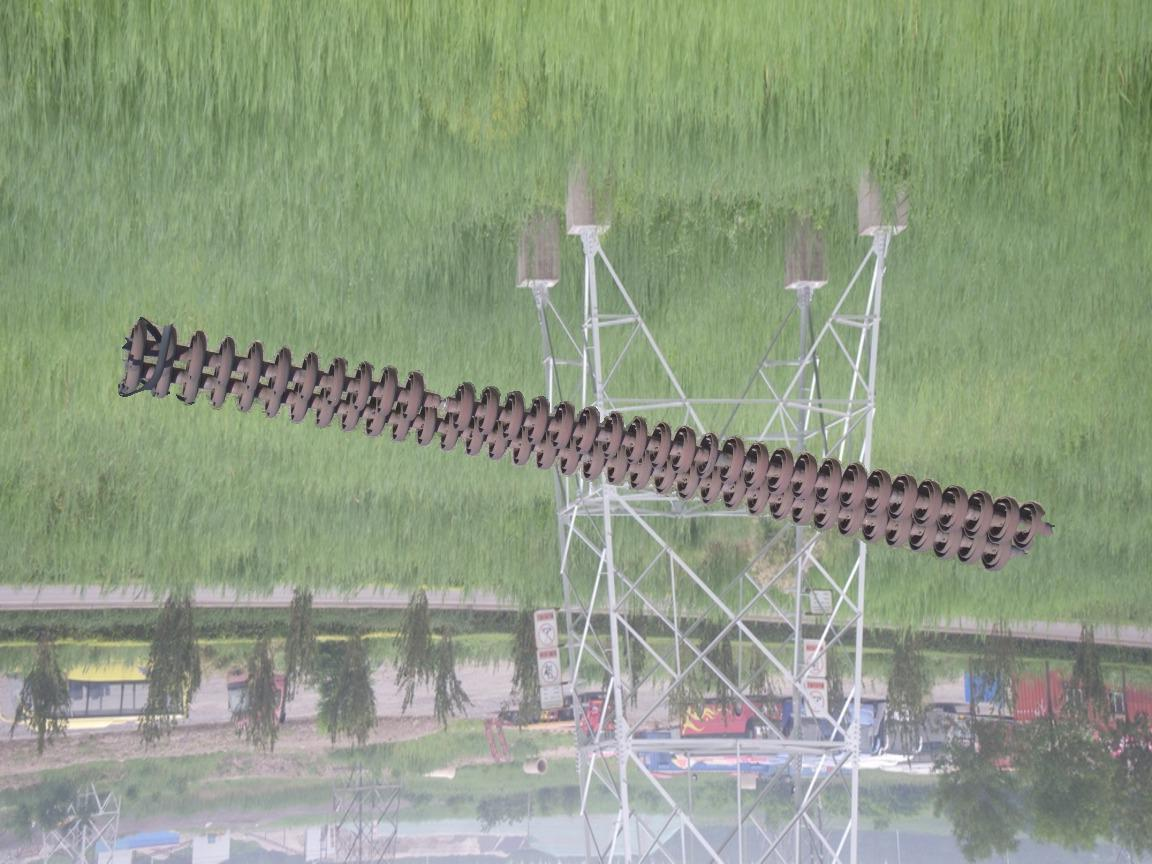insulator: (118, 317, 1051, 577)
insulator_stringdrop: (398, 367, 477, 435)
